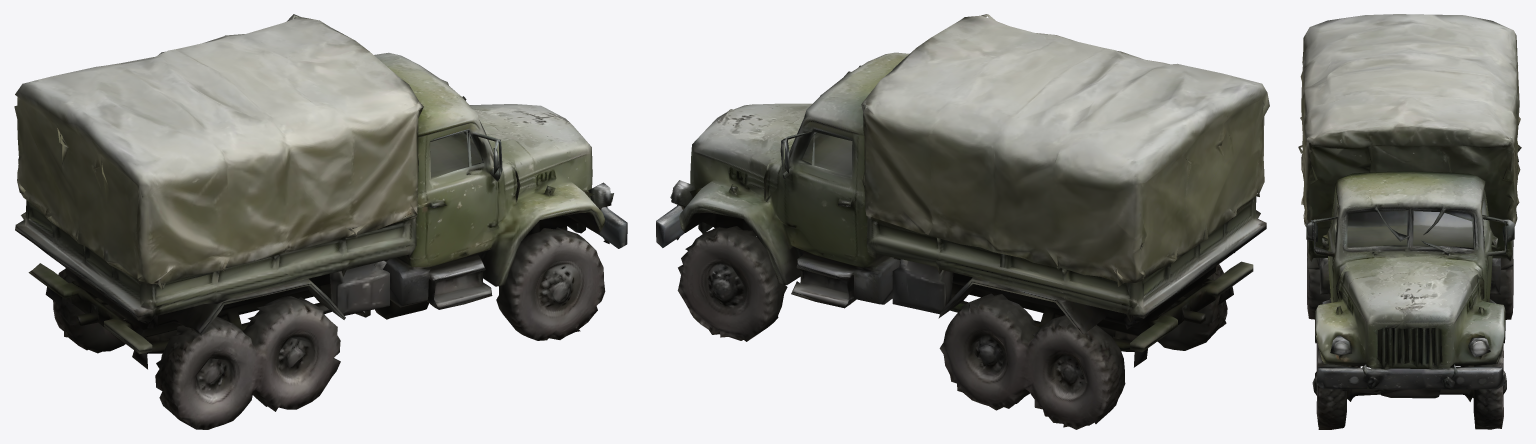
The model's file is ul_ural.glb.
3 views of the same model, side by side, from view 1: azimuth 30°, elevation 25°; view 2: azimuth 150°, elevation 25°; view 3: azimuth 270°, elevation 25° (orthographic). The views are drawn at different scales.
Parts seen in each view (by area): view 1: tripo_node_43b3c403-6911-4bca-b236-ca7398cca795; view 2: tripo_node_43b3c403-6911-4bca-b236-ca7398cca795; view 3: tripo_node_43b3c403-6911-4bca-b236-ca7398cca795.
Part boxes in pixels (left/top/right/bottom): tripo_node_43b3c403-6911-4bca-b236-ca7398cca795: left=14, top=14, right=627, bottom=429; tripo_node_43b3c403-6911-4bca-b236-ca7398cca795: left=656, top=14, right=1269, bottom=429; tripo_node_43b3c403-6911-4bca-b236-ca7398cca795: left=1298, top=14, right=1521, bottom=429.
Bounding box in the file's own units: 1 × 0.5495 × 0.4573.
1 material, 1 textured.
